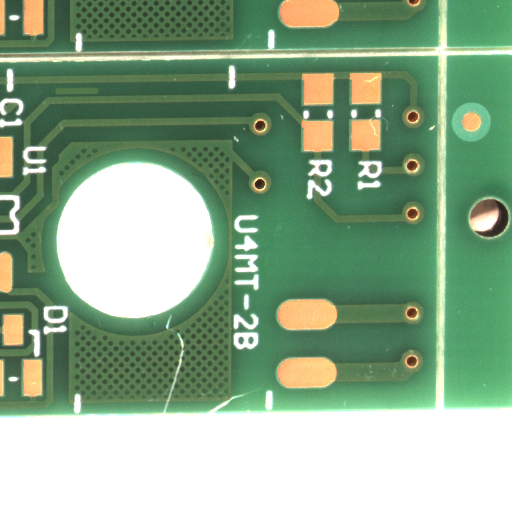Spurious_copper: (76, 91, 122, 101)
